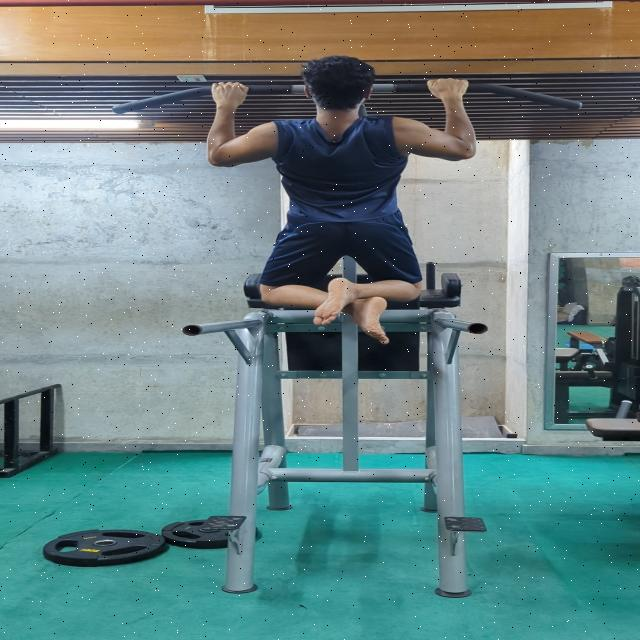Normal_PullUps: (198, 56, 480, 348)
